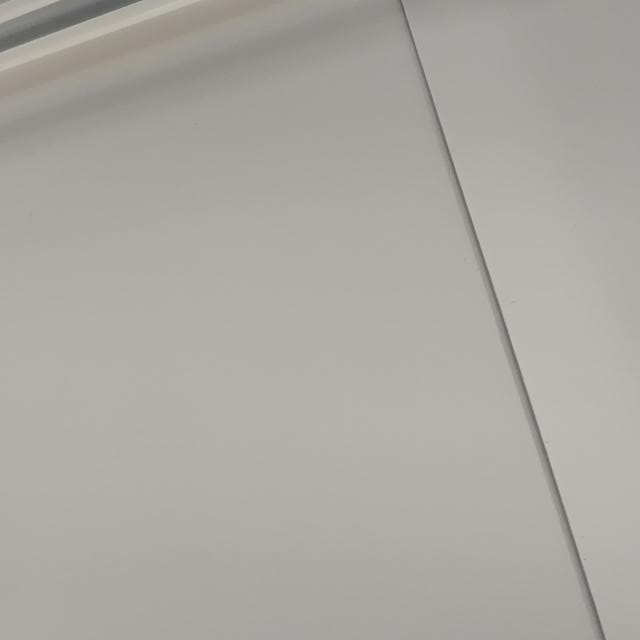fluorescent tube: (0, 0, 602, 197)
